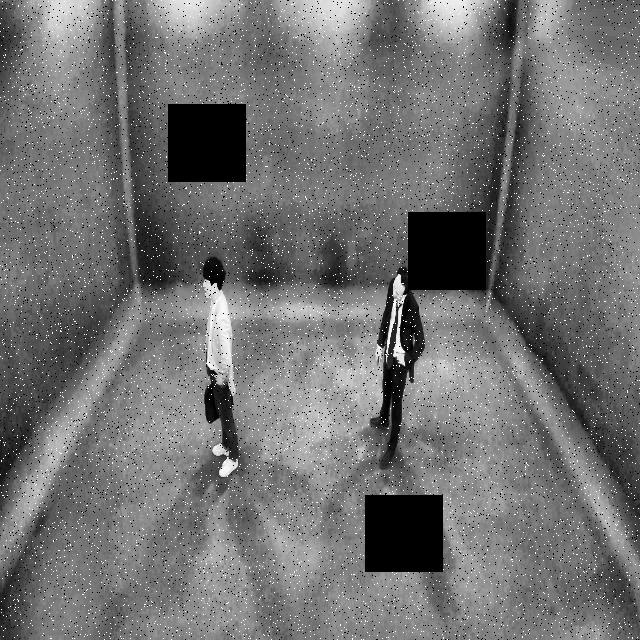assult: (188, 233, 428, 475)
